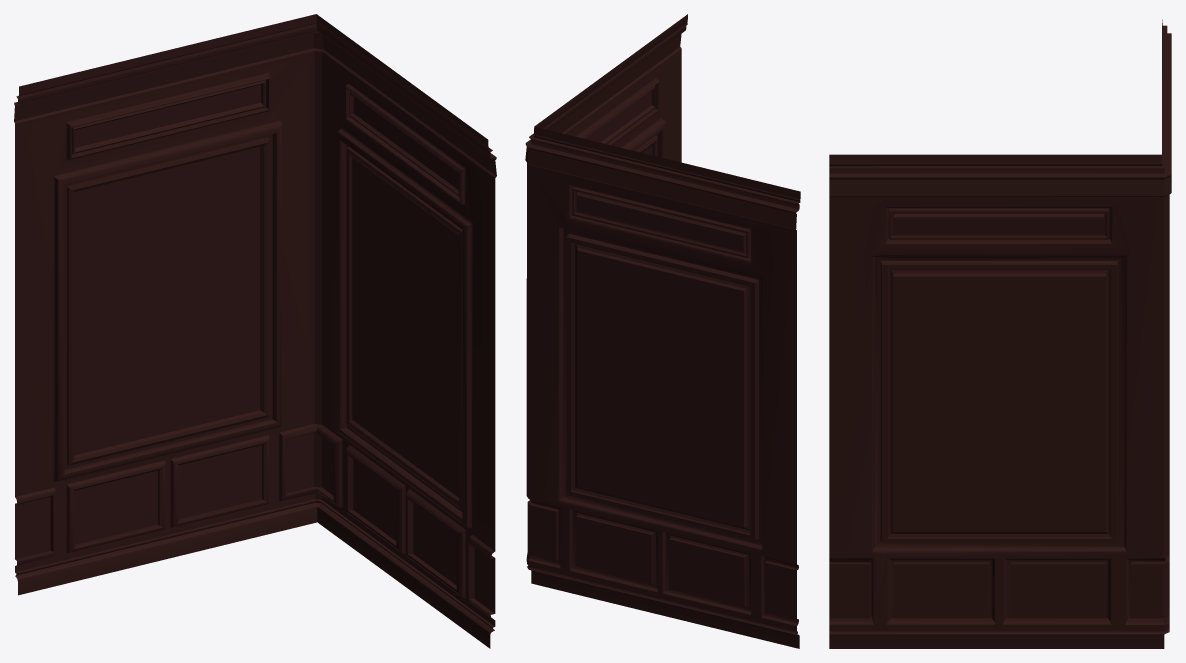
File: wall_big_corner.fbx
3 views of the same model, side by side, from view 1: azimuth 30°, elevation 25°; view 2: azimuth 150°, elevation 25°; view 3: azimuth 270°, elevation 25° (orthographic). The views are drawn at different scales.
Parts seen in each view (by area): view 1: big_corner.001; view 2: big_corner.001; view 3: big_corner.001.
Part boxes in pixels (x1,y1,x2,y2): big_corner.001: (14,14,496,648); big_corner.001: (525,14,800,648); big_corner.001: (829,19,1171,648).
Size of the model in its own units: 201 by 320 by 201.
